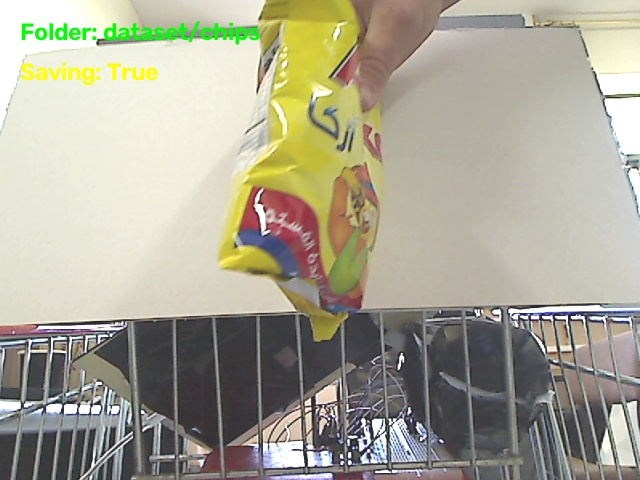chips: (219, 0, 382, 340)
